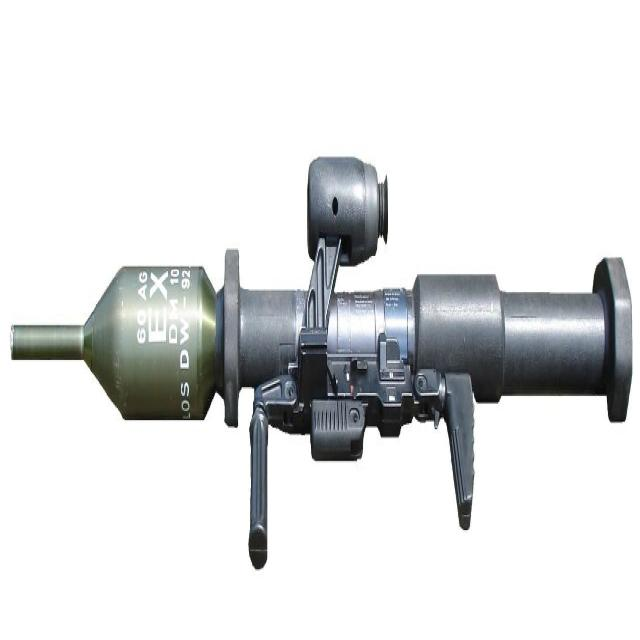bazooka: (3, 30, 635, 586)
